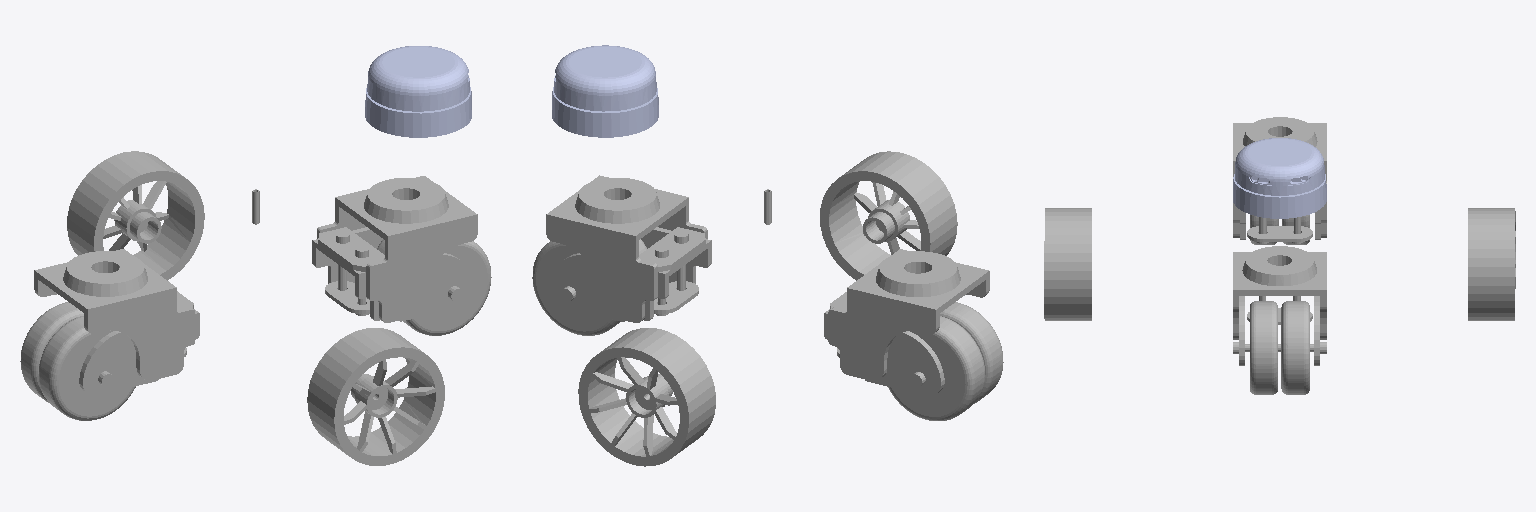
URDF robot description (urdf02):
<?xml version="1.0" encoding="utf-8"?>
<!-- This URDF was automatically created by SolidWorks to URDF Exporter! Originally created by [author] ([email redacted]) 
     Commit Version: 1.6.0-1-g15f4949  Build Version: 1.6.7594.29634
     For more information, please see http://wiki.ros.org/sw_urdf_exporter -->
<robot
  name="urdf02">
  <link
    name="base_link">
    <inertial>
      <origin
        xyz="0.00109242454391657 -2.60058587002593E-05 -0.0128047227127579"
        rpy="0 0 0" />
      <mass
        value="3.47951537357257" />
      <inertia
        ixx="0.0283503032589176"
        ixy="1.40187790352864E-06"
        ixz="-6.43285437919403E-11"
        iyy="0.029742768517206"
        iyz="-1.79370261167301E-11"
        izz="0.0577998837977604" />
    </inertial>
    <visual>
      <origin
        xyz="0 0 0"
        rpy="0 0 0" />
      <geometry>
        <mesh
          filename="package://urdf02/meshes/base_link.STL" />
      </geometry>
      <material
        name="">
        <color
          rgba="0.745098039215686 0.737254901960784 0.729411764705882 1" />
      </material>
    </visual>
    <collision>
      <origin
        xyz="0 0 0"
        rpy="0 0 0" />
      <geometry>
        <mesh
          filename="package://urdf02/meshes/base_link.STL" />
      </geometry>
    </collision>
  </link>
  <link
    name="lidar_link">
    <inertial>
      <origin
        xyz="-0.000127229355419478 1.31350068537095E-07 0.019460782503022"
        rpy="0 0 0" />
      <mass
        value="0.166053843630804" />
      <inertia
        ixx="7.69193007417122E-05"
        ixy="-4.95548703593643E-10"
        ixz="2.37676143504077E-07"
        iyy="7.64310598769666E-05"
        iyz="-2.37005623379629E-10"
        izz="0.000108589049493822" />
    </inertial>
    <visual>
      <origin
        xyz="0 0 0"
        rpy="0 0 0" />
      <geometry>
        <mesh
          filename="package://urdf02/meshes/lidar_link.STL" />
      </geometry>
      <material
        name="">
        <color
          rgba="0.792156862745098 0.819607843137255 0.933333333333333 1" />
      </material>
    </visual>
    <collision>
      <origin
        xyz="0 0 0"
        rpy="0 0 0" />
      <geometry>
        <mesh
          filename="package://urdf02/meshes/lidar_link.STL" />
      </geometry>
    </collision>
  </link>
  <joint
    name="lidar_joint"
    type="fixed">
    <origin
      xyz="0.132 -0.00013082 0.053"
      rpy="0 0 0" />
    <parent
      link="base_link" />
    <child
      link="lidar_link" />
    <axis
      xyz="0 0 0" />
  </joint>
  <link
    name="imu_link">
    <inertial>
      <origin
        xyz="-2.05320786414442E-18 6.93889390390723E-18 0.0125"
        rpy="0 0 0" />
      <mass
        value="0.000289811922293658" />
      <inertia
        ixx="1.57326817116465E-08"
        ixy="0"
        ixz="3.60038419913663E-25"
        iyy="1.57326817116465E-08"
        iyz="-2.54401519141024E-24"
        izz="1.27662151770356E-09" />
    </inertial>
    <visual>
      <origin
        xyz="0 0 0"
        rpy="0 0 0" />
      <geometry>
        <mesh
          filename="package://urdf02/meshes/imu_link.STL" />
      </geometry>
      <material
        name="">
        <color
          rgba="0.749019607843137 0.749019607843137 0.749019607843137 1" />
      </material>
    </visual>
    <collision>
      <origin
        xyz="0 0 0"
        rpy="0 0 0" />
      <geometry>
        <mesh
          filename="package://urdf02/meshes/imu_link.STL" />
      </geometry>
    </collision>
  </link>
  <joint
    name="imu_joint"
    type="continuous">
    <origin
      xyz="0 0 0"
      rpy="0 0 0" />
    <parent
      link="base_link" />
    <child
      link="imu_link" />
    <axis
      xyz="0 0 1" />
  </joint>
  <link
    name="right_link">
    <inertial>
      <origin
        xyz="1.72506873414949E-16 -0.00728844339005699 -2.08166817117217E-17"
        rpy="0 0 0" />
      <mass
        value="0.0848957004604734" />
      <inertia
        ixx="7.4907496519878E-05"
        ixy="-3.29077335789557E-19"
        ixz="-8.56977026080893E-21"
        iyy="0.000130222848529083"
        iyz="7.6497990049025E-22"
        izz="7.4907496519878E-05" />
    </inertial>
    <visual>
      <origin
        xyz="0 0 0"
        rpy="0 0 0" />
      <geometry>
        <mesh
          filename="package://urdf02/meshes/right_link.STL" />
      </geometry>
      <material
        name="">
        <color
          rgba="0.749019607843137 0.749019607843137 0.749019607843137 1" />
      </material>
    </visual>
    <collision>
      <origin
        xyz="0 0 0"
        rpy="0 0 0" />
      <geometry>
        <mesh
          filename="package://urdf02/meshes/right_link.STL" />
      </geometry>
    </collision>
  </link>
  <joint
    name="right_joint"
    type="revolute">
    <origin
      xyz="-0.00016087 -0.16232 -0.0665"
      rpy="0 0 -0.00099109" />
    <parent
      link="base_link" />
    <child
      link="right_link" />
    <axis
      xyz="0 -1 0" />
    <limit
      lower="0"
      upper="0"
      effort="0"
      velocity="0" />
  </joint>
  <link
    name="left_link">
    <inertial>
      <origin
        xyz="9.83472570771662E-18 0.00728844339005719 6.93889390390723E-17"
        rpy="0 0 0" />
      <mass
        value="0.0848957004604736" />
      <inertia
        ixx="7.49074965198782E-05"
        ixy="-4.10033560387089E-20"
        ixz="-1.16910573539205E-20"
        iyy="0.000130222848529084"
        iyz="4.77841065602832E-19"
        izz="7.49074965198782E-05" />
    </inertial>
    <visual>
      <origin
        xyz="0 0 0"
        rpy="0 0 0" />
      <geometry>
        <mesh
          filename="package://urdf02/meshes/left_link.STL" />
      </geometry>
      <material
        name="">
        <color
          rgba="0.749019607843137 0.749019607843137 0.749019607843137 1" />
      </material>
    </visual>
    <collision>
      <origin
        xyz="0 0 0"
        rpy="0 0 0" />
      <geometry>
        <mesh
          filename="package://urdf02/meshes/left_link.STL" />
      </geometry>
    </collision>
  </link>
  <joint
    name="left_joint"
    type="revolute">
    <origin
      xyz="0.00016087 0.16232 -0.0665"
      rpy="0 0 -0.00099109" />
    <parent
      link="base_link" />
    <child
      link="left_link" />
    <axis
      xyz="0 1 0" />
    <limit
      lower="0"
      upper="0"
      effort="0"
      velocity="0" />
  </joint>
  <link
    name="front_link">
    <inertial>
      <origin
        xyz="-0.012247856619052 2.63677968348475E-16 -0.0258423527037026"
        rpy="0 0 0" />
      <mass
        value="0.134968786413858" />
      <inertia
        ixx="0.000132736560537161"
        ixy="2.05670187505185E-20"
        ixz="-1.16913015315812E-05"
        iyy="0.000108905111851544"
        iyz="1.6991854324779E-21"
        izz="0.00016431082681564" />
    </inertial>
    <visual>
      <origin
        xyz="0 0 0"
        rpy="0 0 0" />
      <geometry>
        <mesh
          filename="package://urdf02/meshes/front_link.STL" />
      </geometry>
      <material
        name="">
        <color
          rgba="0.749019607843137 0.749019607843137 0.749019607843137 1" />
      </material>
    </visual>
    <collision>
      <origin
        xyz="0 0 0"
        rpy="0 0 0" />
      <geometry>
        <mesh
          filename="package://urdf02/meshes/front_link.STL" />
      </geometry>
    </collision>
  </link>
  <joint
    name="front_joint"
    type="revolute">
    <origin
      xyz="0.122 -0.00012091 -0.015"
      rpy="0 0 0" />
    <parent
      link="base_link" />
    <child
      link="front_link" />
    <axis
      xyz="0 0 -1" />
    <limit
      lower="0"
      upper="0"
      effort="0"
      velocity="0" />
  </joint>
  <link
    name="f_wheel_link">
    <inertial>
      <origin
        xyz="0 2.70616862252382E-16 -6.93889390390723E-18"
        rpy="0 0 0" />
      <mass
        value="0.192670881607509" />
      <inertia
        ixx="7.63146365292796E-05"
        ixy="1.19769135252778E-19"
        ixz="2.02825221494103E-21"
        iyy="0.00013627319824331"
        iyz="-8.12098592530515E-20"
        izz="7.63146365292795E-05" />
    </inertial>
    <visual>
      <origin
        xyz="0 0 0"
        rpy="0 0 0" />
      <geometry>
        <mesh
          filename="package://urdf02/meshes/f_wheel_link.STL" />
      </geometry>
      <material
        name="">
        <color
          rgba="0.749019607843137 0.749019607843137 0.749019607843137 1" />
      </material>
    </visual>
    <collision>
      <origin
        xyz="0 0 0"
        rpy="0 0 0" />
      <geometry>
        <mesh
          filename="package://urdf02/meshes/f_wheel_link.STL" />
      </geometry>
    </collision>
  </link>
  <joint
    name="f_wheel_joint"
    type="revolute">
    <origin
      xyz="0.019817 0 -0.059"
      rpy="0 0 0" />
    <parent
      link="front_link" />
    <child
      link="f_wheel_link" />
    <axis
      xyz="0 1 0" />
    <limit
      lower="0"
      upper="0"
      effort="0"
      velocity="0" />
  </joint>
  <link
    name="back_link">
    <inertial>
      <origin
        xyz="0.0122478566190519 -2.4980018054066E-16 -0.0258423527037026"
        rpy="0 0 0" />
      <mass
        value="0.134968786413858" />
      <inertia
        ixx="0.000132736560537161"
        ixy="-3.03740720929472E-21"
        ixz="1.16913015315812E-05"
        iyy="0.000108905111851544"
        iyz="1.10029337805242E-20"
        izz="0.00016431082681564" />
    </inertial>
    <visual>
      <origin
        xyz="0 0 0"
        rpy="0 0 0" />
      <geometry>
        <mesh
          filename="package://urdf02/meshes/back_link.STL" />
      </geometry>
      <material
        name="">
        <color
          rgba="0.749019607843137 0.749019607843137 0.749019607843137 1" />
      </material>
    </visual>
    <collision>
      <origin
        xyz="0 0 0"
        rpy="0 0 0" />
      <geometry>
        <mesh
          filename="package://urdf02/meshes/back_link.STL" />
      </geometry>
    </collision>
  </link>
  <joint
    name="back_joint"
    type="revolute">
    <origin
      xyz="-0.122 0.00012091 -0.015"
      rpy="0 0 0" />
    <parent
      link="base_link" />
    <child
      link="back_link" />
    <axis
      xyz="0 0 -1" />
    <limit
      lower="0"
      upper="0"
      effort="0"
      velocity="0" />
  </joint>
  <link
    name="b_wheel_link">
    <inertial>
      <origin
        xyz="0 -2.70616862252382E-16 6.93889390390723E-18"
        rpy="0 0 0" />
      <mass
        value="0.192670881607509" />
      <inertia
        ixx="7.63146365292796E-05"
        ixy="-1.31793032636849E-19"
        ixz="8.50993400127031E-21"
        iyy="0.00013627319824331"
        iyz="-7.98856054603815E-20"
        izz="7.63146365292796E-05" />
    </inertial>
    <visual>
      <origin
        xyz="0 0 0"
        rpy="0 0 0" />
      <geometry>
        <mesh
          filename="package://urdf02/meshes/b_wheel_link.STL" />
      </geometry>
      <material
        name="">
        <color
          rgba="0.749019607843137 0.749019607843137 0.749019607843137 1" />
      </material>
    </visual>
    <collision>
      <origin
        xyz="0 0 0"
        rpy="0 0 0" />
      <geometry>
        <mesh
          filename="package://urdf02/meshes/b_wheel_link.STL" />
      </geometry>
    </collision>
  </link>
  <joint
    name="b_wheel_joint"
    type="revolute">
    <origin
      xyz="-0.019817 0 -0.059"
      rpy="0 0 0" />
    <parent
      link="back_link" />
    <child
      link="b_wheel_link" />
    <axis
      xyz="0 -1 0" />
    <limit
      lower="0"
      upper="0"
      effort="0"
      velocity="0" />
  </joint>
</robot>

--- Facts derived from the render (not from the file) ---
The picture shows the robot from 3 angles, left to right: view 1: azimuth 30°, elevation 25°; view 2: azimuth 150°, elevation 25°; view 3: azimuth 270°, elevation 25°; orthographic projection.
Model urdf02 with 9 links and 8 joints (6 revolute, 1 continuous, 1 fixed), rooted at base_link, posed all joints at 0.
Visible links, largest first — view 1: front_link, back_link, right_link, left_link, lidar_link, b_wheel_link, f_wheel_link; view 2: front_link, back_link, left_link, right_link, lidar_link, b_wheel_link, f_wheel_link; view 3: lidar_link, front_link, right_link, left_link, f_wheel_link, back_link.
Link boxes in pixels (x1,y1,x2,y2): front_link: [312, 176, 477, 322]; back_link: [34, 249, 199, 395]; right_link: [307, 328, 444, 465]; left_link: [67, 151, 204, 280]; lidar_link: [365, 46, 471, 137]; b_wheel_link: [20, 302, 135, 420]; f_wheel_link: [377, 239, 491, 335]; front_link: [546, 175, 711, 322]; back_link: [824, 249, 989, 395]; left_link: [578, 328, 715, 466]; right_link: [820, 151, 957, 280]; lidar_link: [552, 45, 658, 137]; b_wheel_link: [888, 302, 1003, 420]; f_wheel_link: [532, 239, 646, 335]; lidar_link: [1233, 138, 1326, 218]; front_link: [1233, 246, 1326, 365]; right_link: [1044, 208, 1091, 320]; left_link: [1468, 208, 1515, 320]; f_wheel_link: [1250, 301, 1309, 394]; back_link: [1233, 117, 1326, 243].
Size in the robot's own frame: 0.3586 by 0.3767 by 0.2055 metres.
Meshes: 9 distinct files referenced, 8 mesh visuals loaded (8 binary STL); not drawn: 1 (reference not matched to a file when rendering).